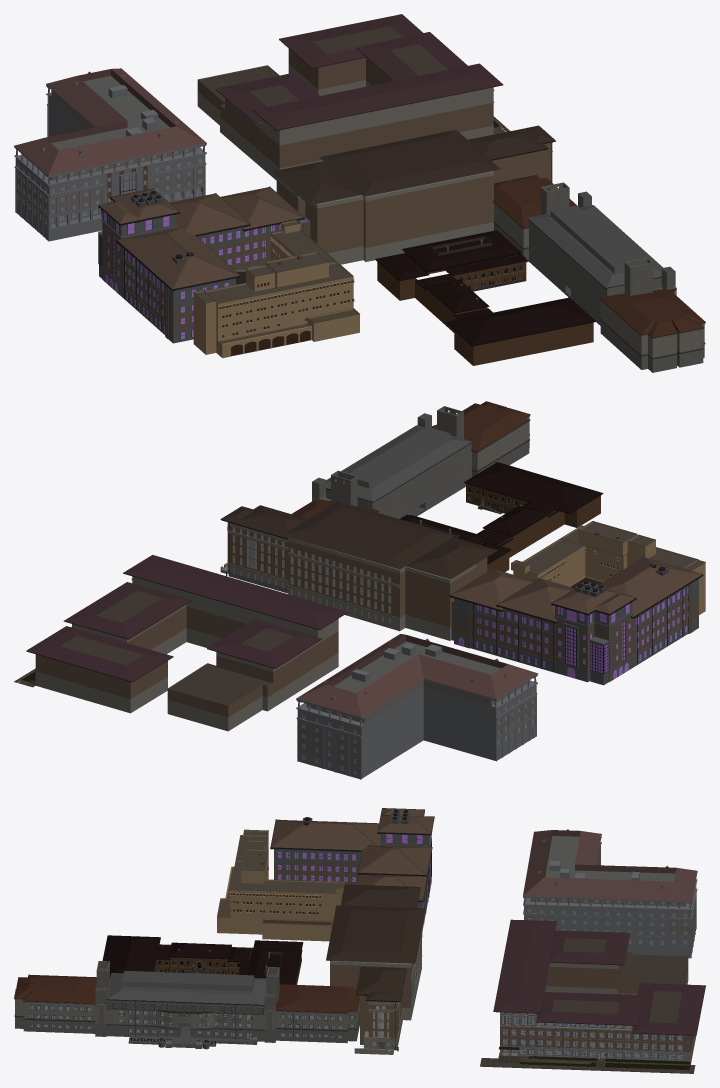
3 views of the same model, one above another, from view 1: azimuth 30°, elevation 25°; view 2: azimuth 150°, elevation 25°; view 3: azimuth 270°, elevation 25° (orthographic). The views are drawn at different scales.
Visible parts, largest first — view 1: opaque (×2), glass; view 2: opaque (×2), glass; view 3: opaque (×2), glass.
Part boxes in pixels (bbox=[...]): opaque (×2): bbox=[14, 14, 705, 372]; glass: bbox=[18, 149, 523, 355]; opaque (×2): bbox=[14, 401, 705, 779]; glass: bbox=[233, 487, 688, 773]; opaque (×2): bbox=[14, 808, 705, 1073]; glass: bbox=[29, 834, 687, 1059].
Bounding box in the file's own units: 209 × 39.9 × 297.
Materials: 10 (10 with a texture image).
